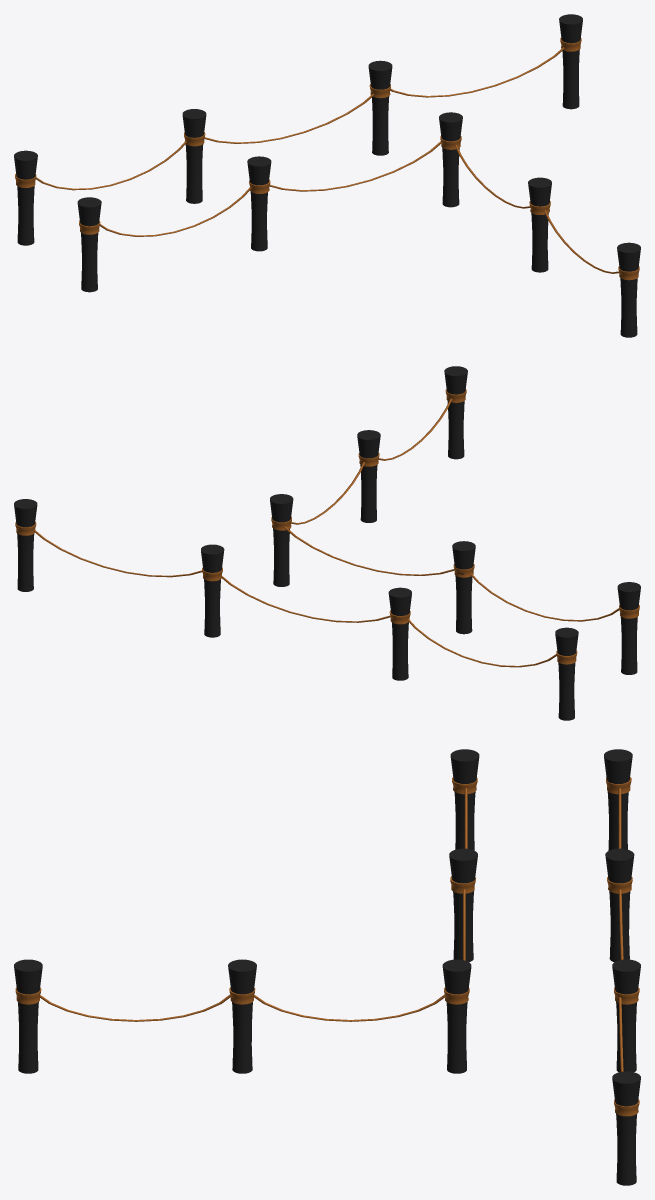
The model's file is Dock_Stage_1.FBX.
The picture shows the model from 3 angles, top to bottom: view 1: azimuth 30°, elevation 25°; view 2: azimuth 150°, elevation 25°; view 3: azimuth 270°, elevation 25°; orthographic projection. The views are drawn at different scales.
Visible parts, largest first — view 1: Dock_Large001; view 2: Dock_Large001; view 3: Dock_Large001.
Boxes of the visible parts, x1,y1,x2,y2 form: Dock_Large001: (14,14,640,337); Dock_Large001: (14,366,640,720); Dock_Large001: (14,749,640,1185).
Size of the model in its own units: 180 by 26.12 by 143.
